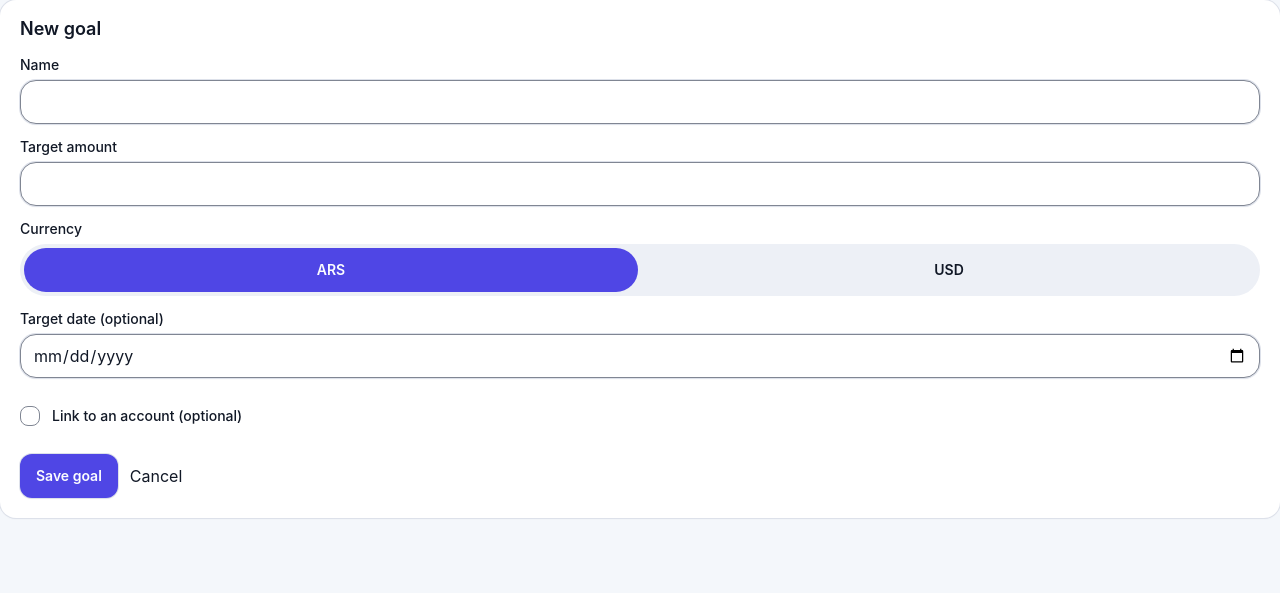
it: CreateGoalContainer › shows a field error and sends nothing for  / 1000
The image size is (1280, 593).
Clear the field labelled "Name". click: (640, 102)
box: [20,80,1260,124]
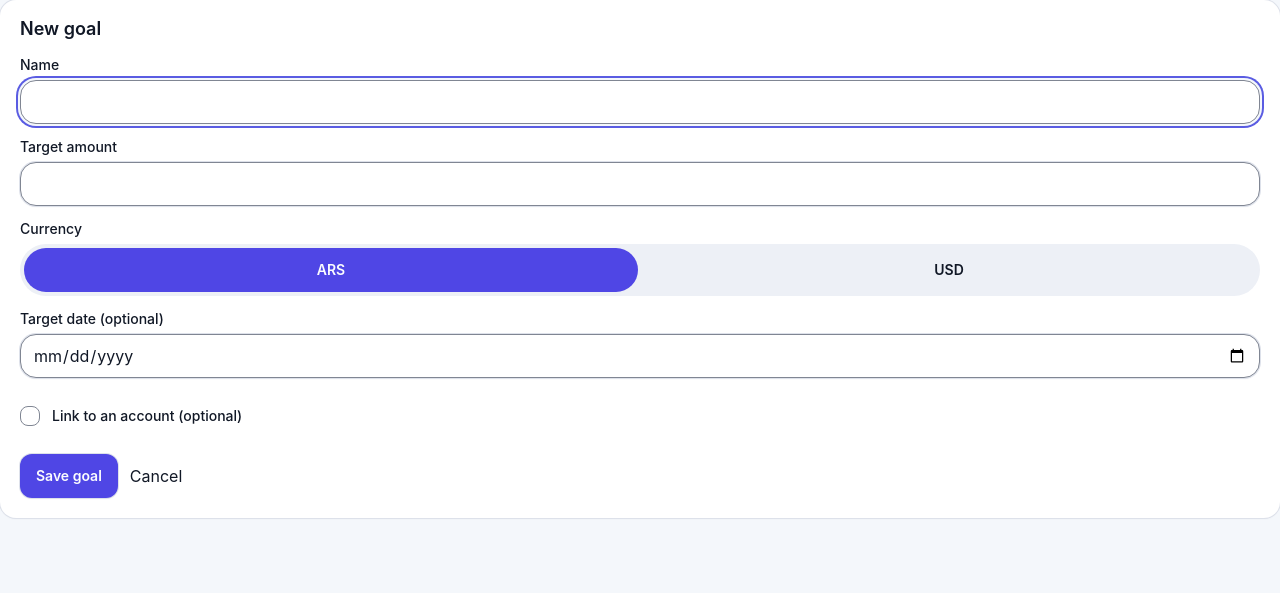
Type "1000" into the field labelled "Target amount". click: (640, 184)
box: [20,162,1260,206]
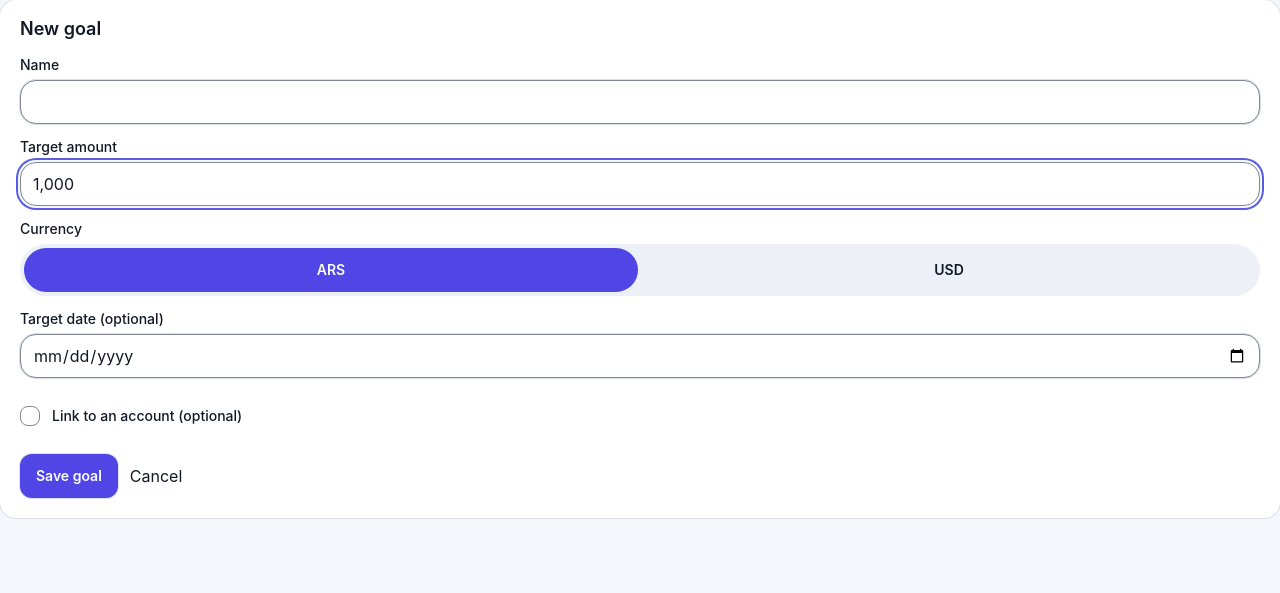
Click the button "Save goal". click: (69, 476)
box: [20,454,118,498]
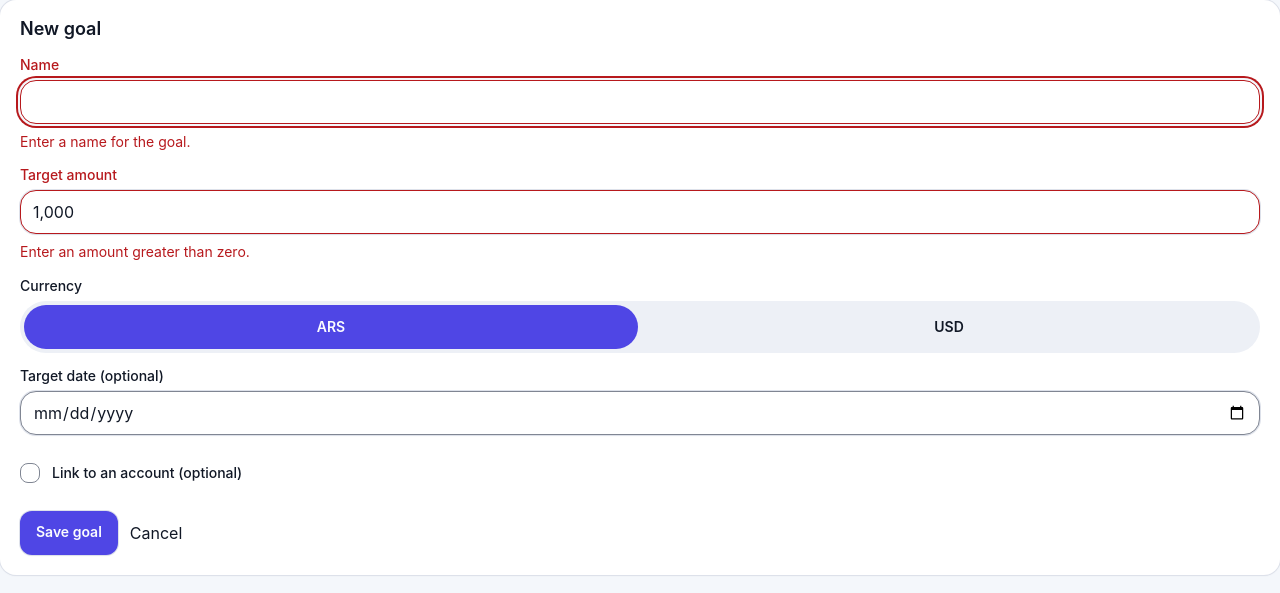
Result: the text "Enter a name for the goal." is shown at [20,133,190,150]
